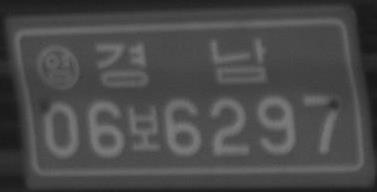0: (43, 100, 80, 161)
2: (210, 96, 250, 158)
6: (86, 99, 125, 159), (163, 98, 201, 158)
7: (302, 92, 344, 154)
9: (255, 94, 296, 156)
경남_D: (94, 36, 269, 88)
보: (128, 104, 161, 152)
영: (37, 43, 80, 91)
